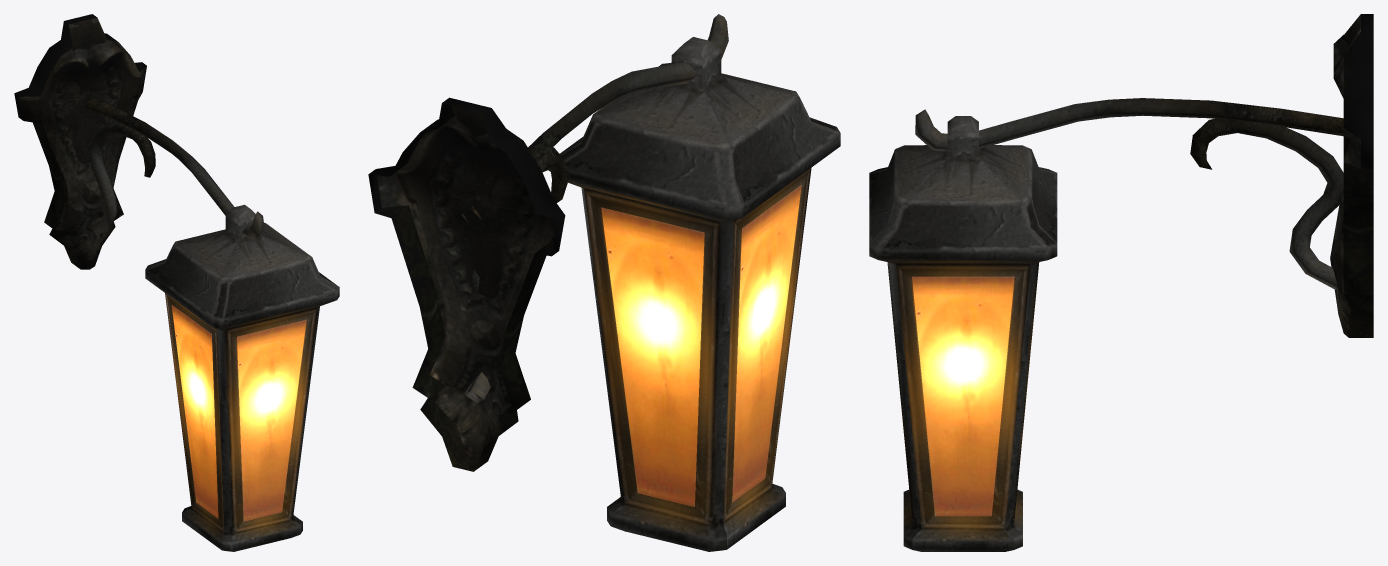
The model's file is SM_Lantern_01.FBX.
3 views of the same model, side by side, from view 1: azimuth 30°, elevation 25°; view 2: azimuth 150°, elevation 25°; view 3: azimuth 270°, elevation 25° (orthographic). The views are drawn at different scales.
Visible parts, largest first — view 1: SM_Lantern_01; view 2: SM_Lantern_01; view 3: SM_Lantern_01.
Boxes of the visible parts, bbox=[...] form: SM_Lantern_01: bbox=[14, 14, 339, 551]; SM_Lantern_01: bbox=[368, 14, 840, 551]; SM_Lantern_01: bbox=[869, 14, 1373, 551].
Size of what is drawn, in the model's own units: 30.5 by 79.56 by 87.98.
